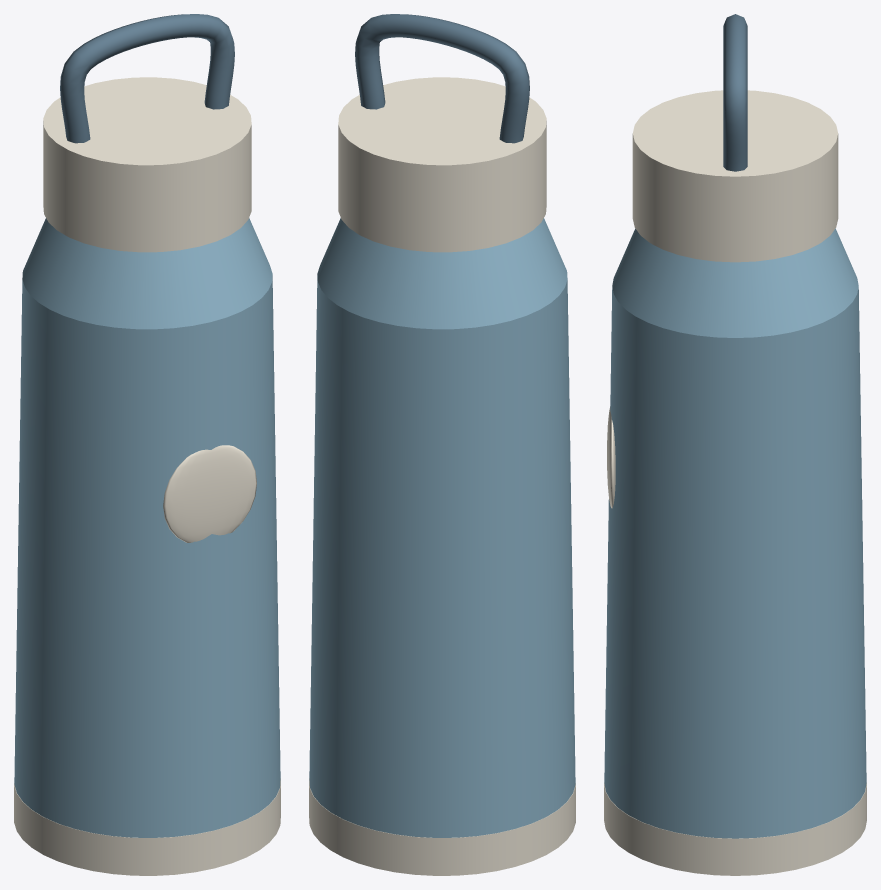
Rendered from urban-school-bottle-v1.glb.
3 views of the same model, side by side, from view 1: azimuth 30°, elevation 25°; view 2: azimuth 150°, elevation 25°; view 3: azimuth 270°, elevation 25° (orthographic).
Parts seen in each view (by area): view 1: Bottle-body, Bottle-cap, Bottle-shoulder, Bottle-base, Bottle-carry-loop, Bottle-flower-badge; view 2: Bottle-body, Bottle-cap, Bottle-shoulder, Bottle-base, Bottle-carry-loop; view 3: Bottle-body, Bottle-cap, Bottle-shoulder, Bottle-base, Bottle-carry-loop, Bottle-flower-badge.
Part boxes in pixels (<box>): Bottle-body: <box>14,275,280,837</box>; Bottle-cap: <box>43,77,251,252</box>; Bottle-shoulder: <box>22,218,272,329</box>; Bottle-base: <box>14,778,280,875</box>; Bottle-carry-loop: <box>60,14,234,143</box>; Bottle-flower-badge: <box>163,445,256,542</box>; Bottle-body: <box>309,275,575,837</box>; Bottle-cap: <box>338,77,546,252</box>; Bottle-shoulder: <box>317,218,567,329</box>; Bottle-base: <box>309,778,575,875</box>; Bottle-carry-loop: <box>355,14,529,143</box>; Bottle-body: <box>604,287,866,838</box>; Bottle-cap: <box>632,90,838,262</box>; Bottle-shoulder: <box>612,228,858,337</box>; Bottle-base: <box>604,782,866,875</box>; Bottle-carry-loop: <box>723,14,747,171</box>; Bottle-flower-badge: <box>607,406,615,508</box>.
Bounding box in the file's own units: 0.064 × 0.2111 × 0.064.
